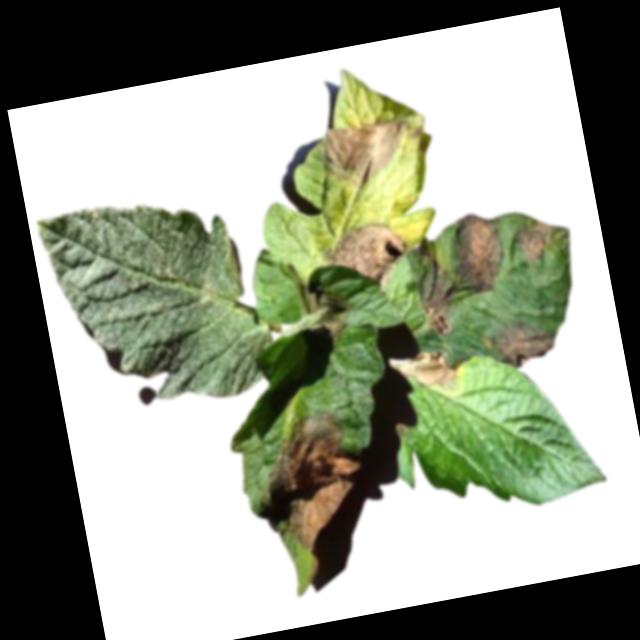Late_blight: (246, 403, 380, 561), (311, 113, 411, 194), (317, 217, 411, 298), (400, 237, 464, 344), (441, 206, 512, 300), (479, 312, 559, 372), (400, 347, 465, 397), (310, 284, 355, 347), (508, 216, 558, 268)
healthy: (35, 179, 282, 426)
